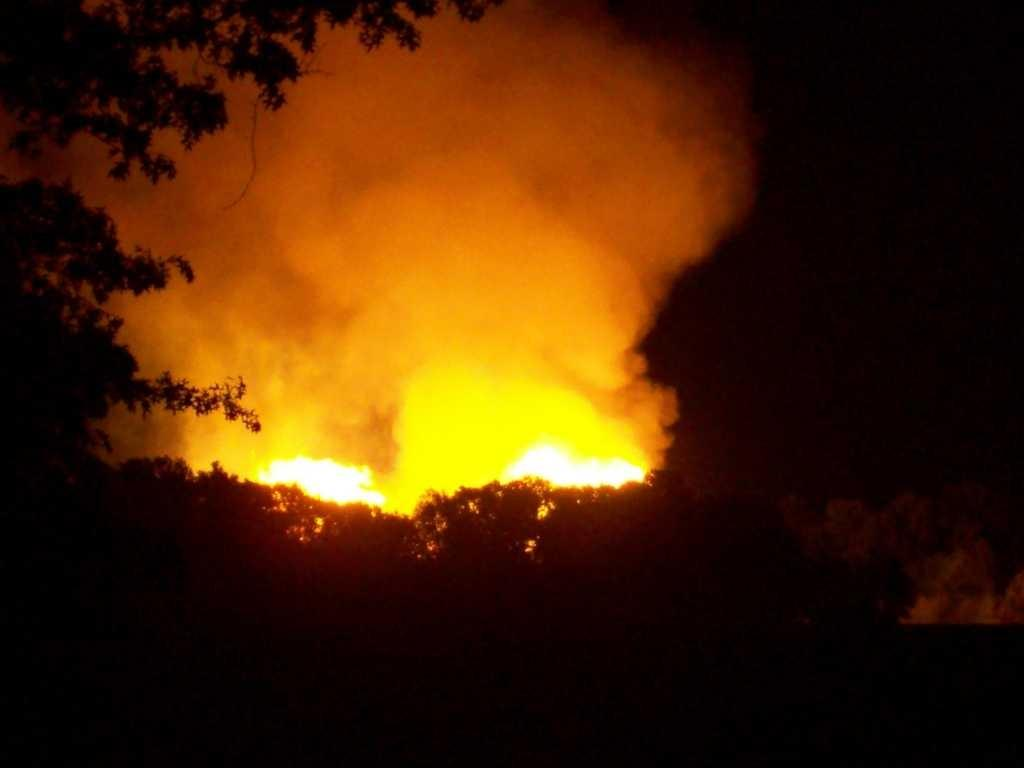fire: (514, 444, 680, 516), (231, 451, 397, 521)
smoke: (247, 117, 685, 324)
